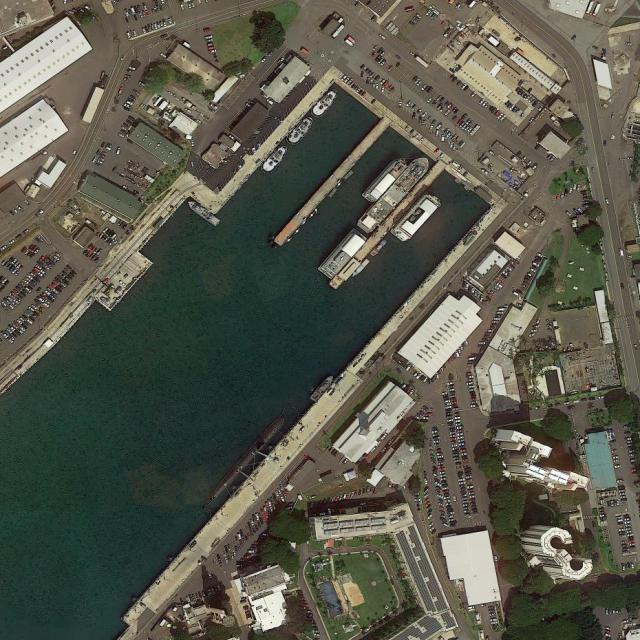Dock: (273, 116, 391, 247), (329, 159, 446, 290)
Hovercraft: (258, 141, 290, 175), (310, 86, 341, 119), (285, 113, 315, 146)
Other Warship: (356, 152, 434, 237), (361, 152, 412, 207), (184, 198, 222, 228)
Submarine: (209, 415, 287, 499)
